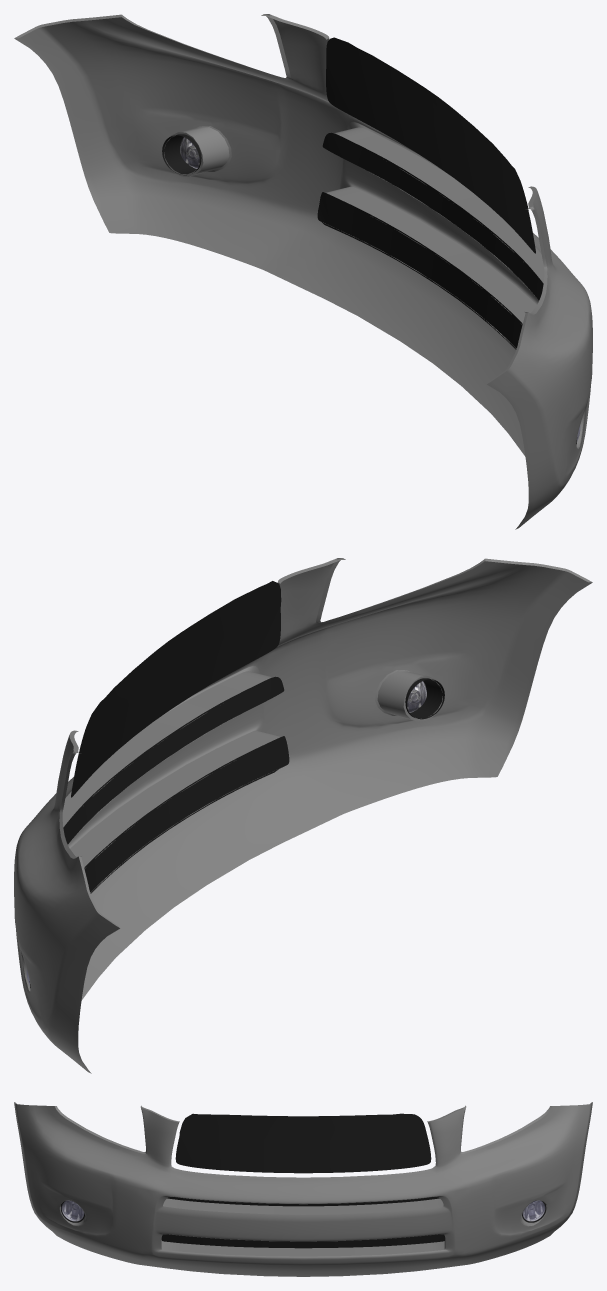
3 views of the same model, one above another, from view 1: azimuth 30°, elevation 25°; view 2: azimuth 150°, elevation 25°; view 3: azimuth 270°, elevation 25° (orthographic). The views are drawn at different scales.
Visible parts, largest first — view 1: Y712_021G_C_Y712_021G_C_2_DaS, Y712_021G_C_1_D_Y712_021G_C, Y712_021G_C_Y712_021G_C_2_DaS_E, Y712_021G_C_Y712_021G_C_5_D; view 2: Y712_021G_C_Y712_021G_C_2_DaS, Y712_021G_C_1_D_Y712_021G_C, Y712_021G_C_Y712_021G_C_2_DaS_E, Y712_021G_C_Y712_021G_C_5_D; view 3: Y712_021G_C_Y712_021G_C_2_DaS, Y712_021G_C_1_D_Y712_021G_C, Y712_021G_C_Y712_021G_C_2_DaS_E, Y712_021G_C_Y712_021G_C_4_N, Y712_021G_C_Y712_021G_C_6_DTaSI, Y712_021G_C_Y712_021G_C_7_DTaSI.
Part boxes in pixels (<box>): Y712_021G_C_Y712_021G_C_2_DaS: <box>14,17,592,529</box>; Y712_021G_C_1_D_Y712_021G_C: <box>317,37,543,349</box>; Y712_021G_C_Y712_021G_C_2_DaS_E: <box>15,14,587,448</box>; Y712_021G_C_Y712_021G_C_5_D: <box>162,134,577,444</box>; Y712_021G_C_Y712_021G_C_2_DaS: <box>14,561,592,1073</box>; Y712_021G_C_1_D_Y712_021G_C: <box>63,581,289,893</box>; Y712_021G_C_Y712_021G_C_2_DaS_E: <box>19,558,591,992</box>; Y712_021G_C_Y712_021G_C_5_D: <box>29,678,444,988</box>; Y712_021G_C_Y712_021G_C_2_DaS: <box>14,1103,592,1276</box>; Y712_021G_C_1_D_Y712_021G_C: <box>161,1113,445,1248</box>; Y712_021G_C_Y712_021G_C_2_DaS_E: <box>14,1102,592,1256</box>; Y712_021G_C_Y712_021G_C_4_N: <box>61,1200,545,1221</box>; Y712_021G_C_Y712_021G_C_6_DTaSI: <box>62,1200,83,1220</box>; Y712_021G_C_Y712_021G_C_7_DTaSI: <box>523,1200,544,1220</box>.
Bounding box in the file's own units: 67.4 × 70.62 × 228.
